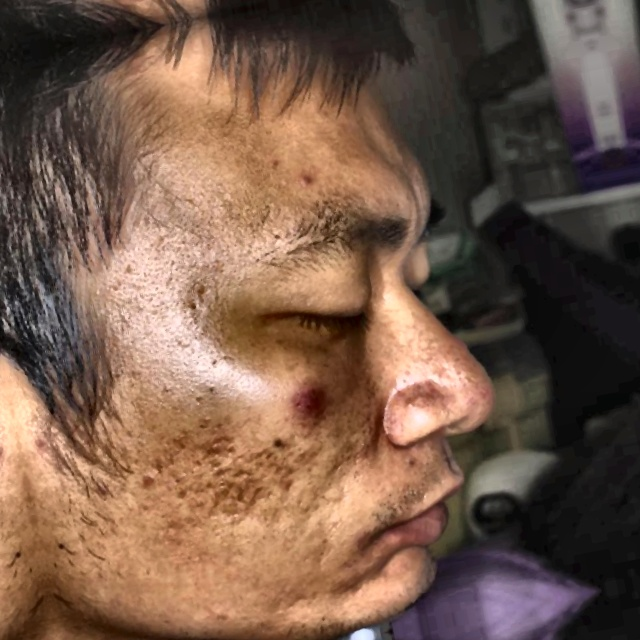comedone: (286, 375, 329, 424)
